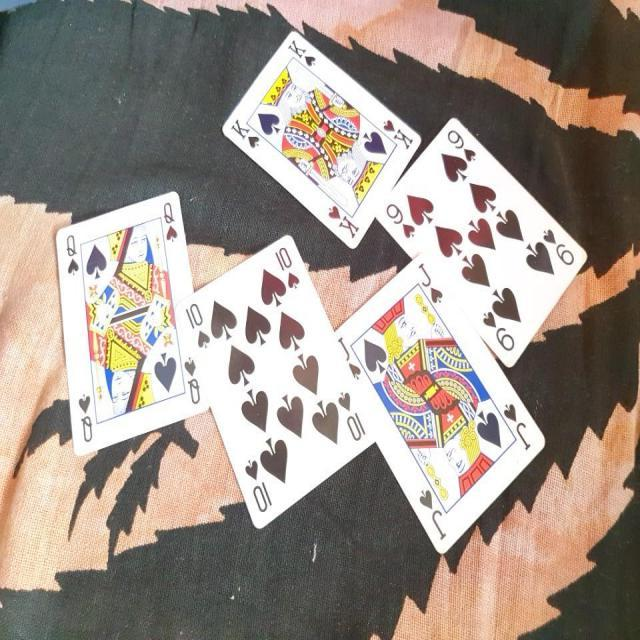10 of spades: (170, 231, 386, 538)
9 of spades: (371, 103, 592, 373)
jack of spades: (330, 273, 550, 560)
king of spades: (215, 28, 424, 248)
queen of spades: (51, 189, 210, 463)
